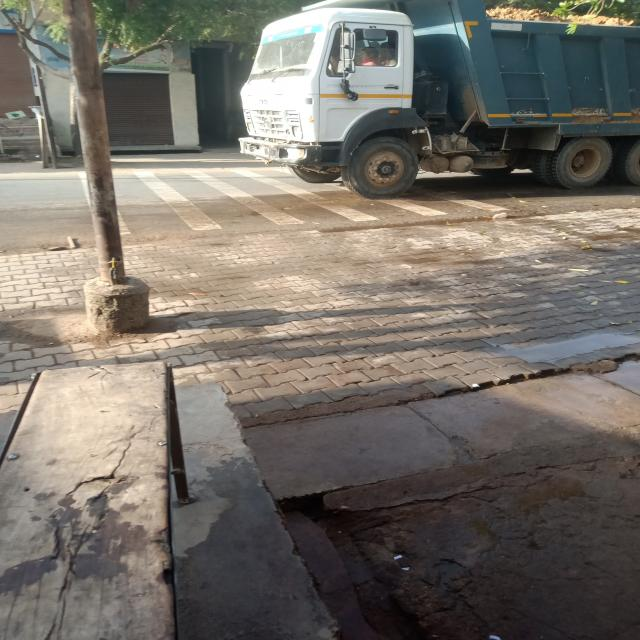truck: (233, 0, 638, 203)
